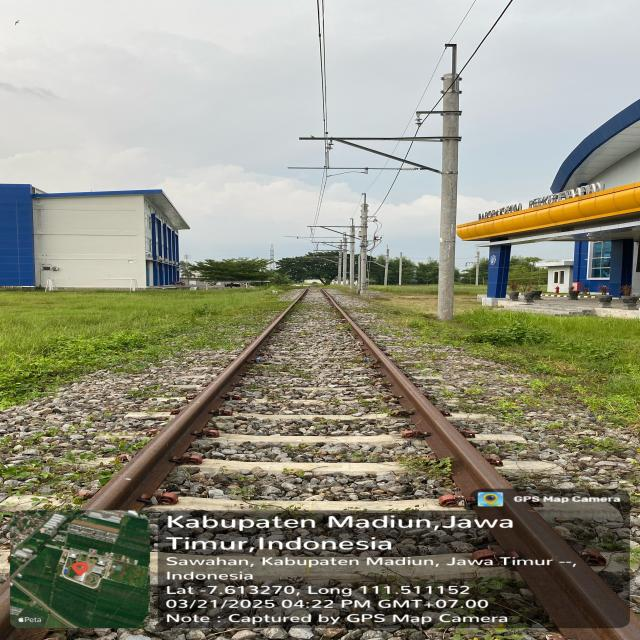rail-detection: (323, 290, 640, 640), (83, 291, 307, 510)
